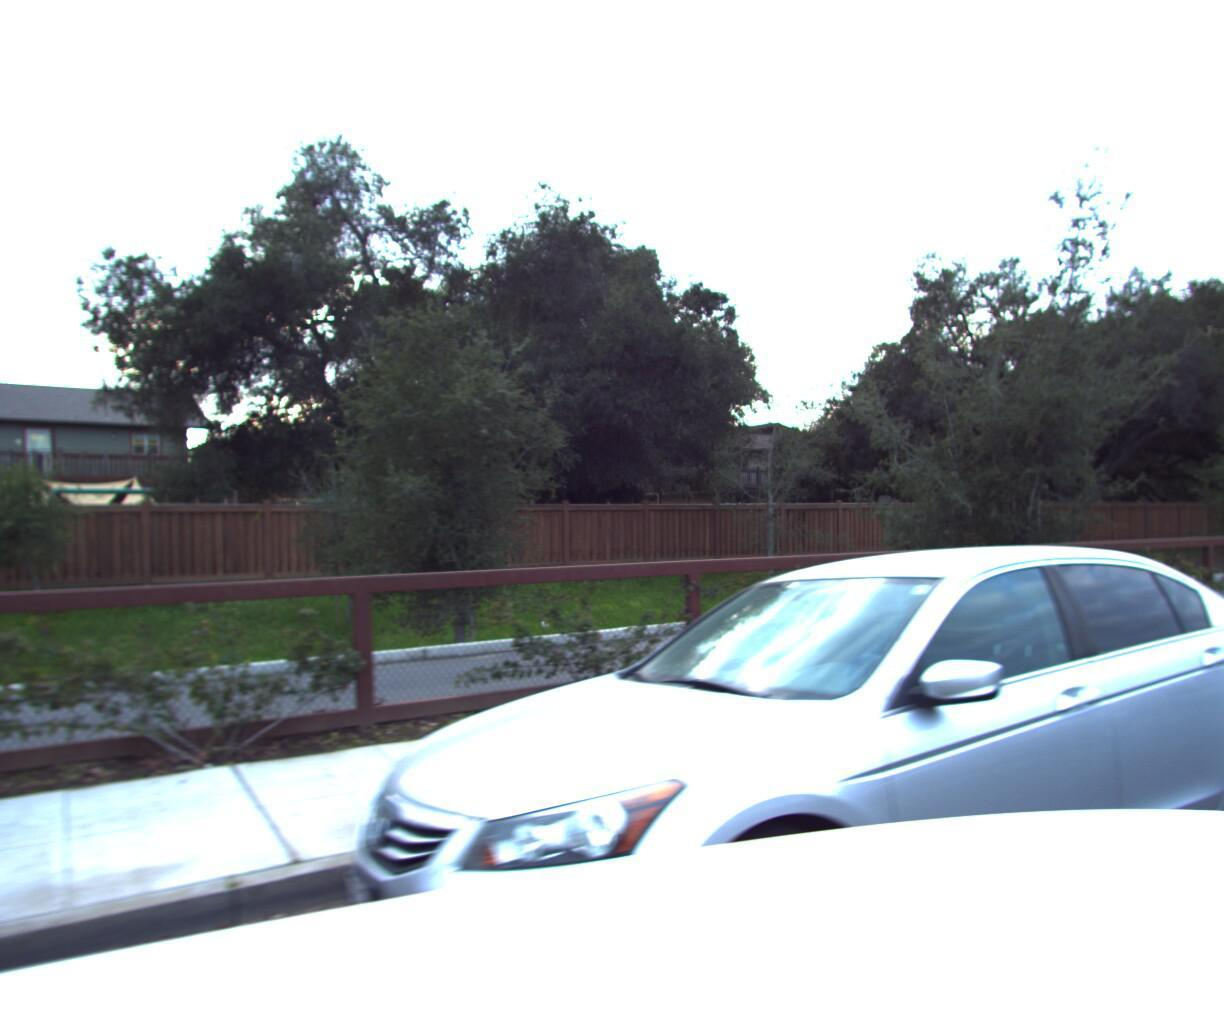car: (295, 529, 1224, 1024)
